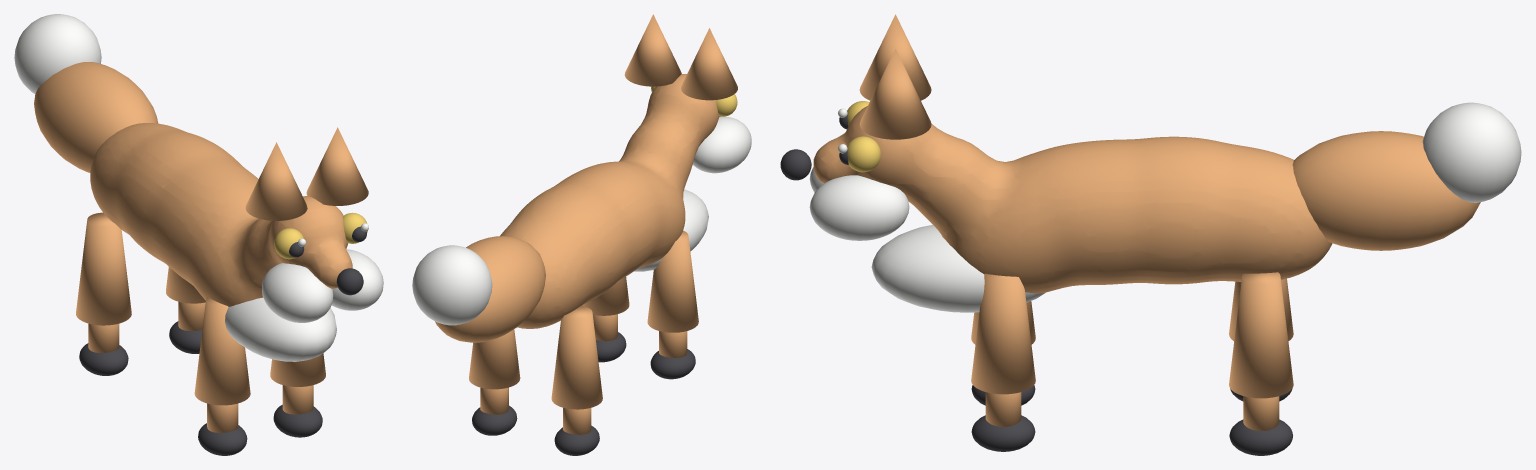
File: StarPet_Fox.fbx
3 views of the same model, side by side, from view 1: azimuth 30°, elevation 25°; view 2: azimuth 150°, elevation 25°; view 3: azimuth 270°, elevation 25° (orthographic). The views are drawn at different scales.
Visible parts, largest first — view 1: StarPet_Fox; view 2: StarPet_Fox; view 3: StarPet_Fox.
Part boxes in pixels (bbox=[...]): StarPet_Fox: bbox=[14, 14, 383, 455]; StarPet_Fox: bbox=[412, 14, 751, 455]; StarPet_Fox: bbox=[780, 14, 1521, 455].
Bounding box in the file's own units: 154 × 364 × 618.
